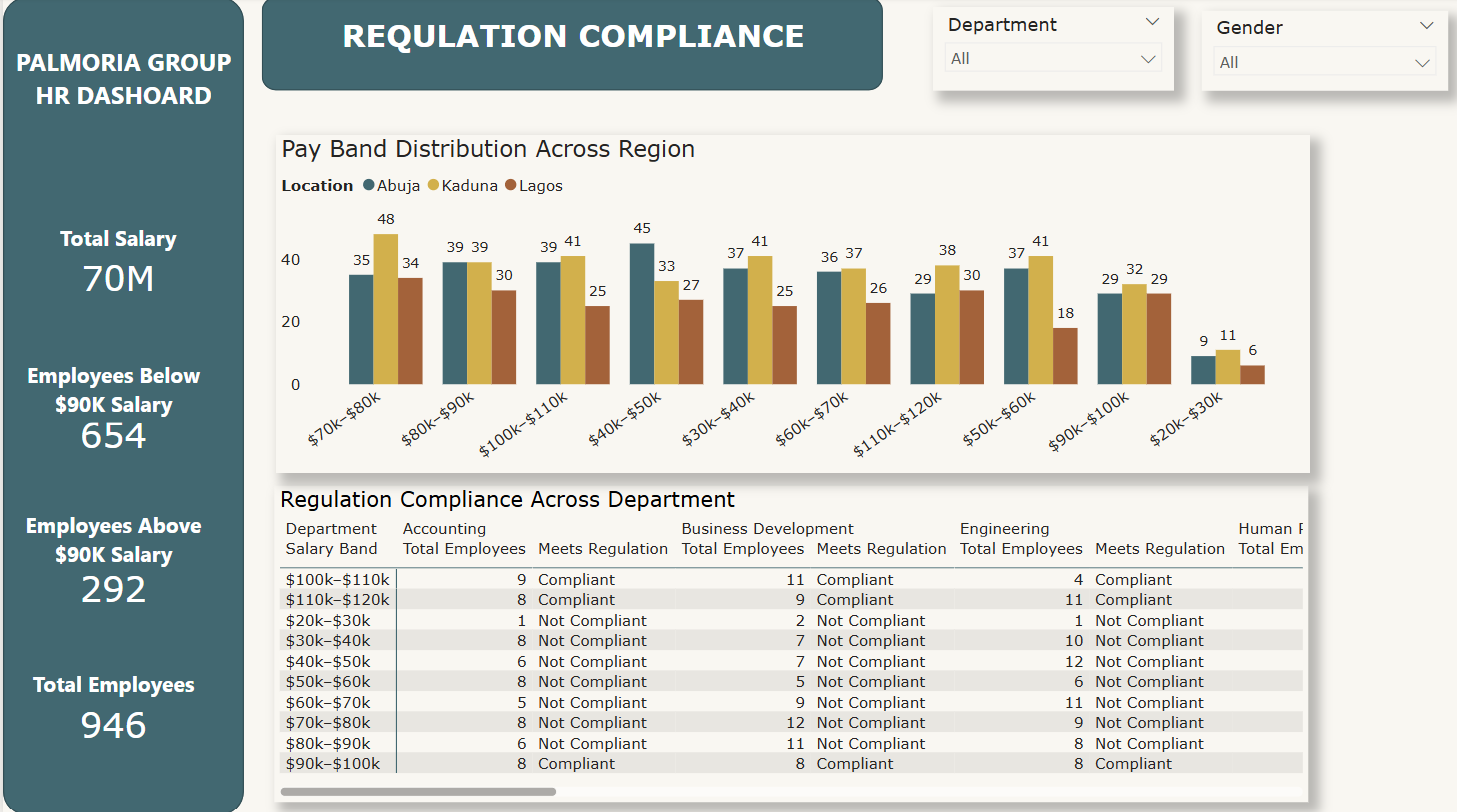

The dashboard page shown, as its layout file describes it:
{"tool":"powerbi","page":{"name":"Regulation Compliance","canvas":[1280,720],"ordinal":2},"visuals":[{"type":"pivotTable","title":"Regulation Compliance Across Department ","fields":{"Columns":["Palmoria Group emp-data.Department"],"Values":["Palmoria Group emp-data.Total Employees","Palmoria Group emp-data.Meets Regulation"],"Rows":["Palmoria Group emp-data.Salary Band"]},"box":[238.8,429.5,909.8,278.6],"z":0},{"type":"shape","box":[0,0,211.9,720.2],"z":1000},{"type":"shape","box":[227.4,0,546.4,82.1],"z":2000},{"type":"clusteredColumnChart","title":"Pay Band Distribution Across Region","fields":{"Y":["Palmoria Group emp-data.Total Employees"],"Category":["Palmoria Group emp-data.Salary Band"],"Series":["Palmoria Group emp-data.Location"]},"box":[239.3,121.4,909.5,297.6],"z":3000},{"type":"card","title":"Employees Below $90K Salary","fields":{"Values":["Palmoria Group emp-data.Employee Below $90K"]},"box":[4.8,320.2,185.7,82.1],"z":4000},{"type":"textbox","box":[253.6,11.9,495.2,50],"z":5000},{"type":"slicer","fields":{"Values":["Palmoria Group emp-data.Department"]},"box":[817.9,8.3,211.9,73.8],"z":6000},{"type":"slicer","fields":{"Values":["Palmoria Group emp-data.Gender"]},"box":[1054.8,11.9,216.7,70.2],"z":7000},{"type":"card","title":"Total Employees","fields":{"Values":["Palmoria Group emp-data.Total Employees"]},"box":[4.8,591.7,185.7,72.6],"z":8000},{"type":"card","title":"Total Salary","fields":{"Values":["Sum(Palmoria Group emp-data.Salary)"]},"box":[11.9,198.8,178.6,71.4],"z":9000},{"type":"card","title":"Employees Above $90K Salary","fields":{"Values":["Palmoria Group emp-data.Employees Above $90K"]},"box":[4.8,452.4,185.7,89.3],"z":10000},{"type":"textbox","box":[0,36.9,211.9,88.1],"z":11000}]}

Visuals, with their boxes in screenshot pixels (x1, y1, x2, y2), scaled from the page's 1280x720 canvas onto the 1457x812 screenshot:
"Regulation Compliance Across Department " pivotTable: (272,484,1307,799)
shape: (0,0,241,811)
shape: (259,0,881,93)
"Pay Band Distribution Across Region" clusteredColumnChart: (272,137,1308,473)
"Employees Below $90K Salary" card: (5,361,217,454)
textbox: (289,13,852,70)
slicer - Palmoria Group emp-data.Department: (931,9,1172,93)
slicer - Palmoria Group emp-data.Gender: (1201,13,1447,93)
"Total Employees" card: (5,667,217,749)
"Total Salary" card: (14,224,217,305)
"Employees Above $90K Salary" card: (5,510,217,611)
textbox: (0,42,241,141)
